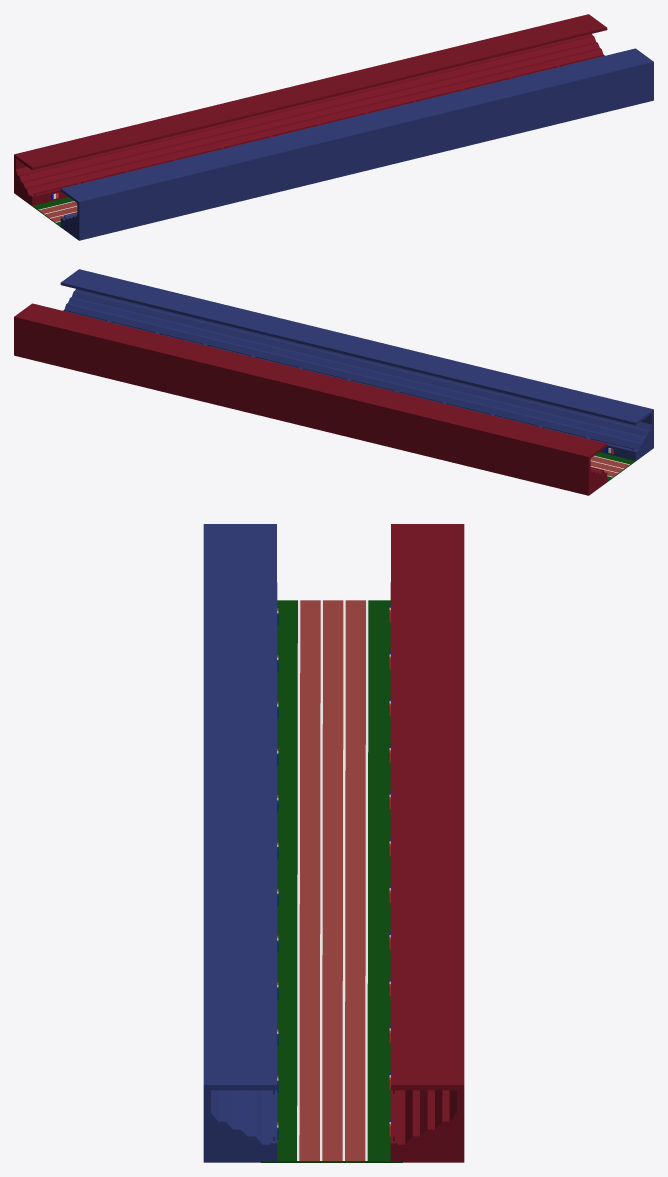
Rendered from tribunnn.fbx.
3 views of the same model, one above another, from view 1: azimuth 30°, elevation 25°; view 2: azimuth 150°, elevation 25°; view 3: azimuth 270°, elevation 25° (orthographic). The views are drawn at different scales.
Visible parts, largest first — view 1: Cube.001, Cube.003, Cube.004; view 2: Cube.003, Cube.001, Cube.004; view 3: Cube.003, Cube.001, Cube.004, Cube.
Boxes of the visible parts, bbox=[...] form: Cube.001: bbox=[60, 48, 653, 240]; Cube.003: bbox=[14, 14, 607, 206]; Cube.004: bbox=[38, 201, 77, 222]; Cube.003: bbox=[14, 303, 607, 495]; Cube.001: bbox=[60, 269, 653, 461]; Cube.004: bbox=[590, 455, 629, 477]; Cube.003: bbox=[389, 524, 464, 1162]; Cube.001: bbox=[203, 524, 278, 1162]; Cube.004: bbox=[297, 600, 368, 1161]; Cube: bbox=[260, 600, 402, 1162].
Bounding box in the file's own units: 58419 × 3776 × 11471.
